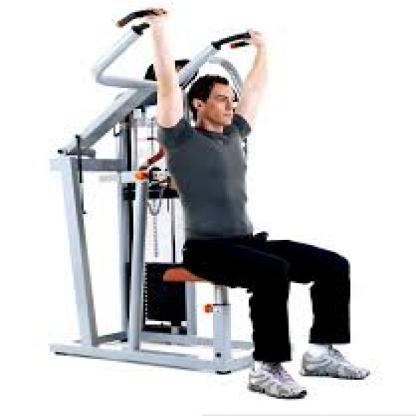shoulder press machine: (36, 4, 377, 405)
